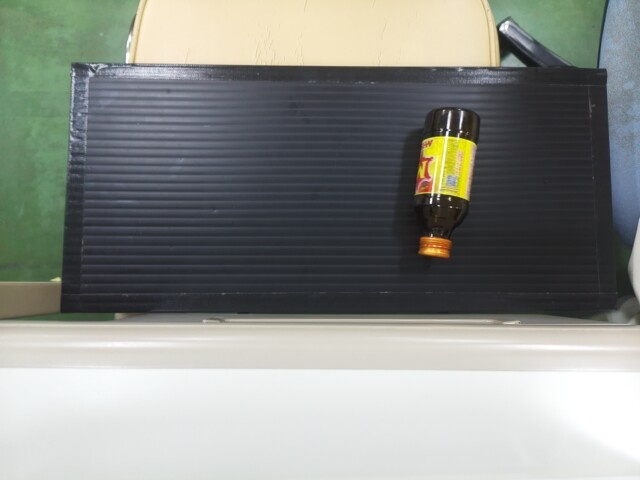glass_bottle: (410, 107, 476, 258)
